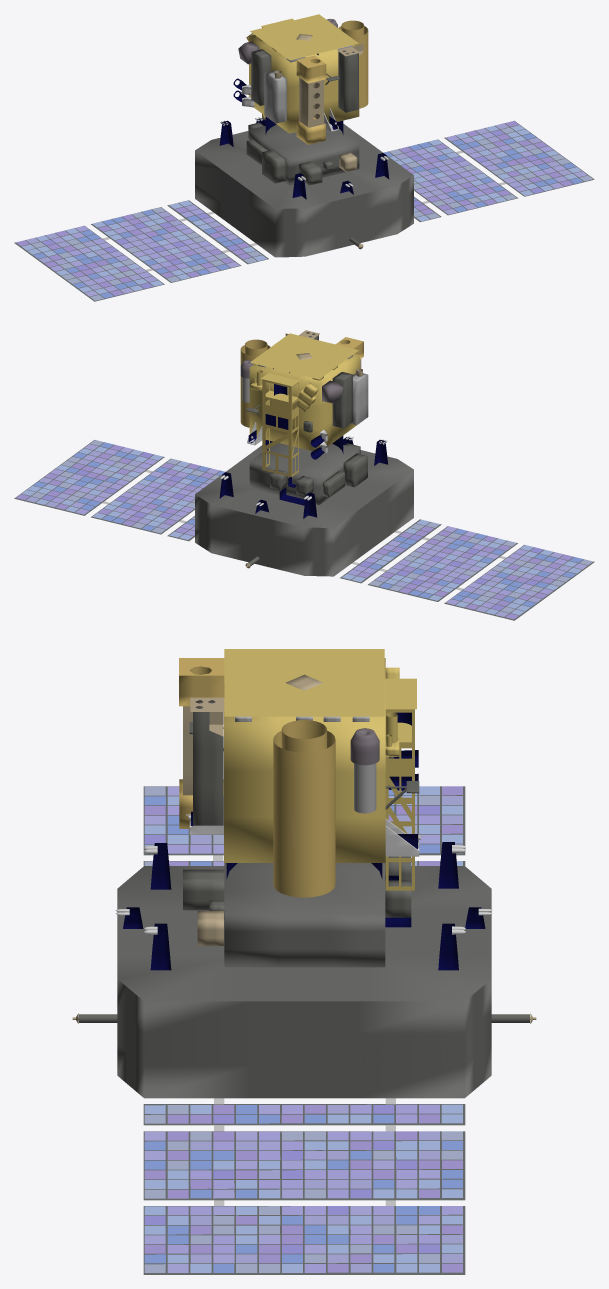
Rendered from soho.glb.
3 renders of one model, top to bottom at view 1: azimuth 30°, elevation 25°; view 2: azimuth 150°, elevation 25°; view 3: azimuth 270°, elevation 25°, orthographic. The views are drawn at different scales.
Visible parts, largest first — view 1: Fake; view 2: Fake; view 3: Fake.
Part boxes in pixels (<box>): Fake: <box>14,14,594,301</box>; Fake: <box>14,330,594,620</box>; Fake: <box>72,649,536,1274</box>.
Size of the model in its own units: 43.27 by 14.43 by 17.34.
Materials: 1 (1 with a texture image).
